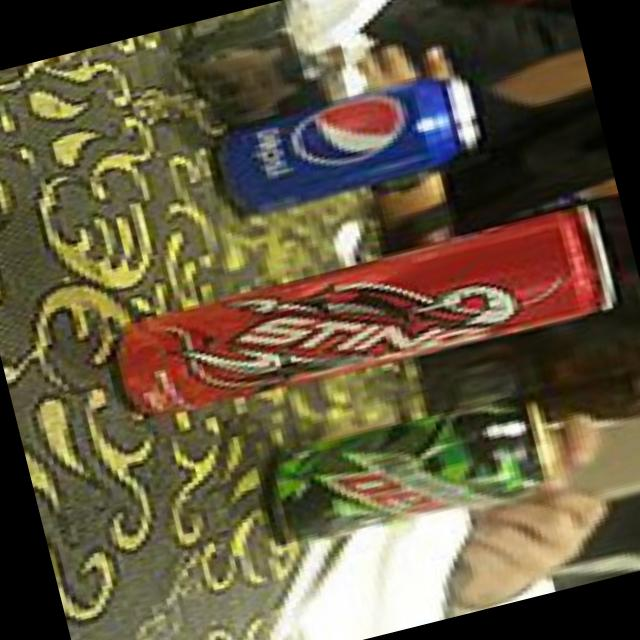metal: (119, 203, 615, 411)
